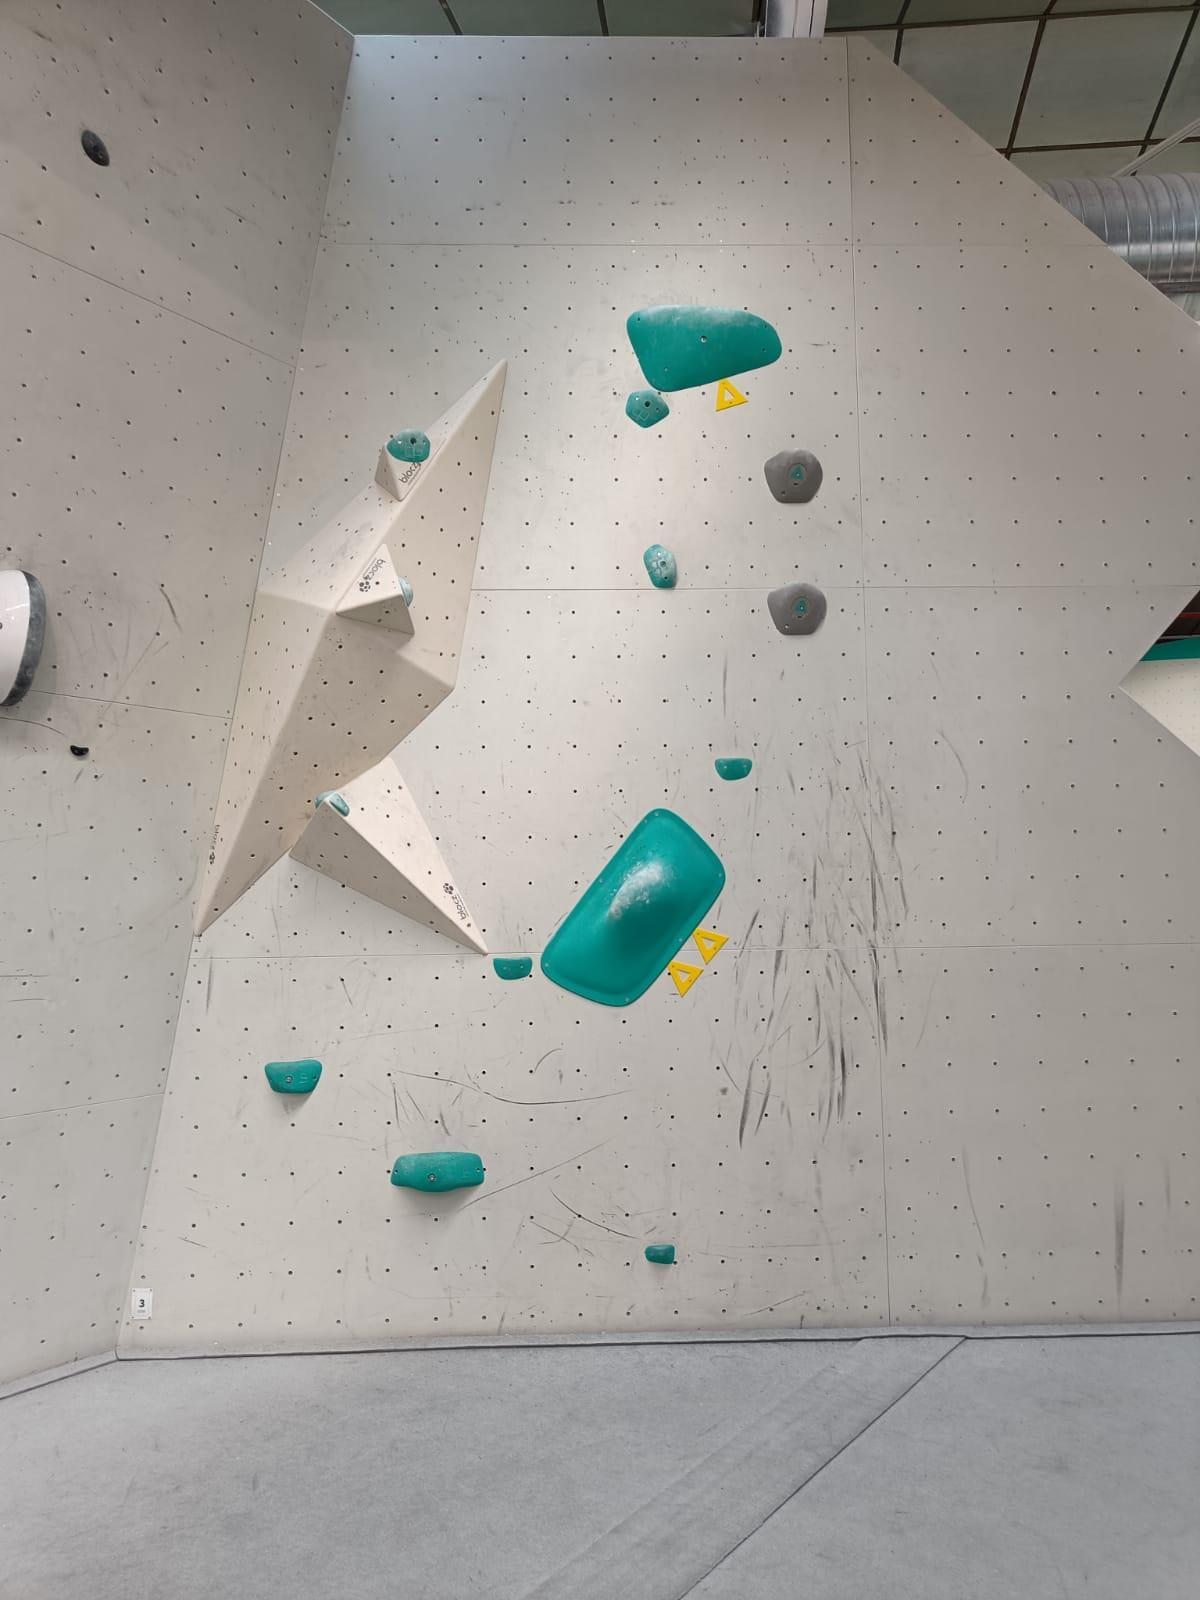hold: (541, 808, 726, 1007), (626, 305, 783, 392), (0, 569, 45, 706), (391, 1151, 484, 1193), (768, 580, 826, 636), (765, 447, 823, 504), (265, 1060, 323, 1094), (625, 389, 669, 427), (643, 544, 677, 588), (387, 428, 430, 462), (81, 129, 110, 166), (493, 957, 532, 980), (715, 757, 753, 780), (644, 1245, 674, 1264), (397, 577, 413, 609), (69, 745, 89, 756)
volume: (193, 359, 508, 936), (289, 756, 488, 955), (335, 543, 416, 635), (376, 436, 447, 501)
